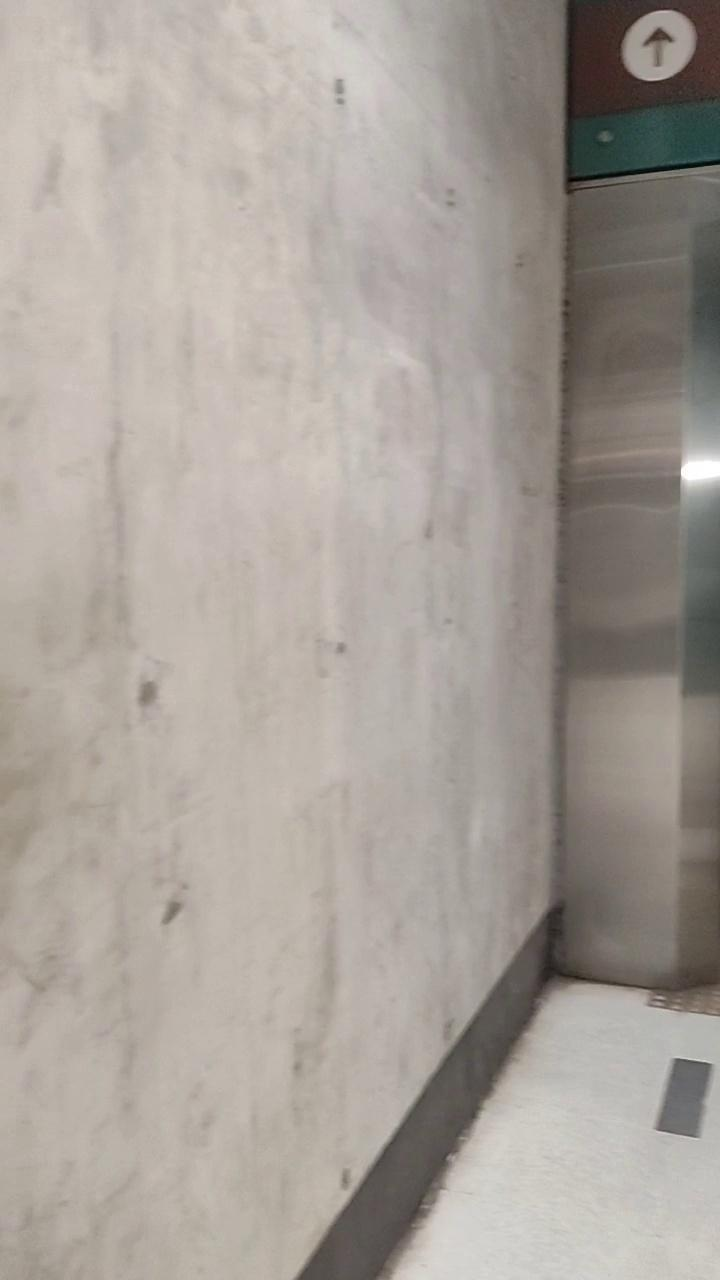up arrow: (638, 24, 676, 69)
